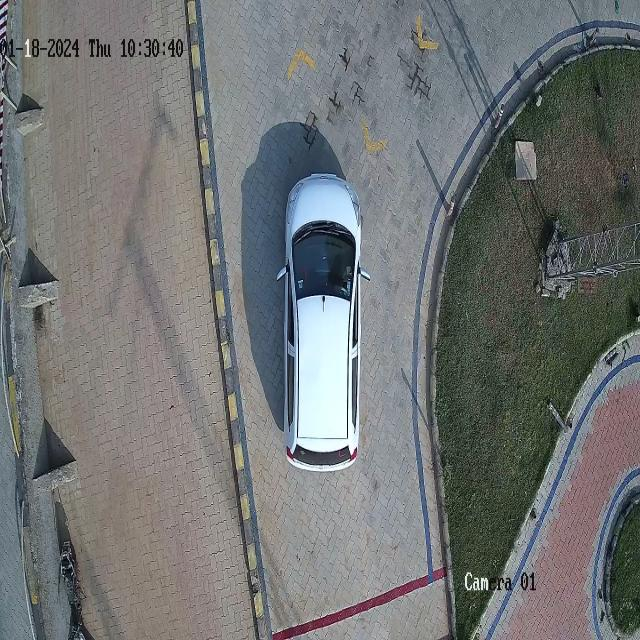car: (283, 171, 361, 472)
